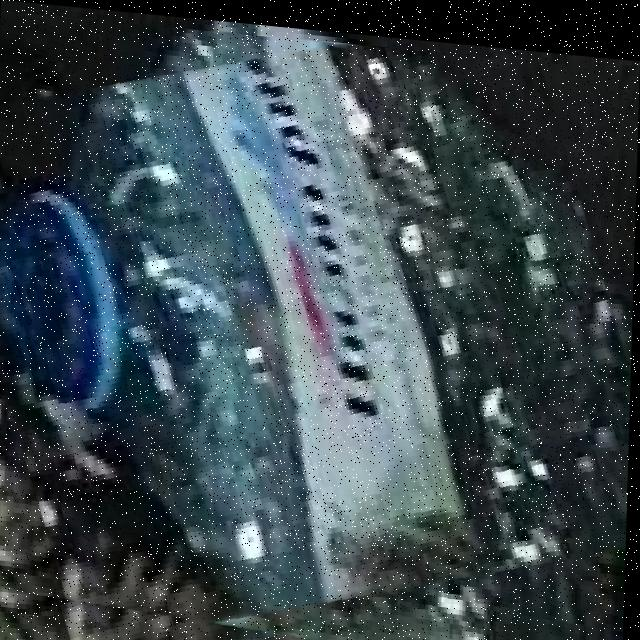plasticbottle: (0, 11, 640, 640)
